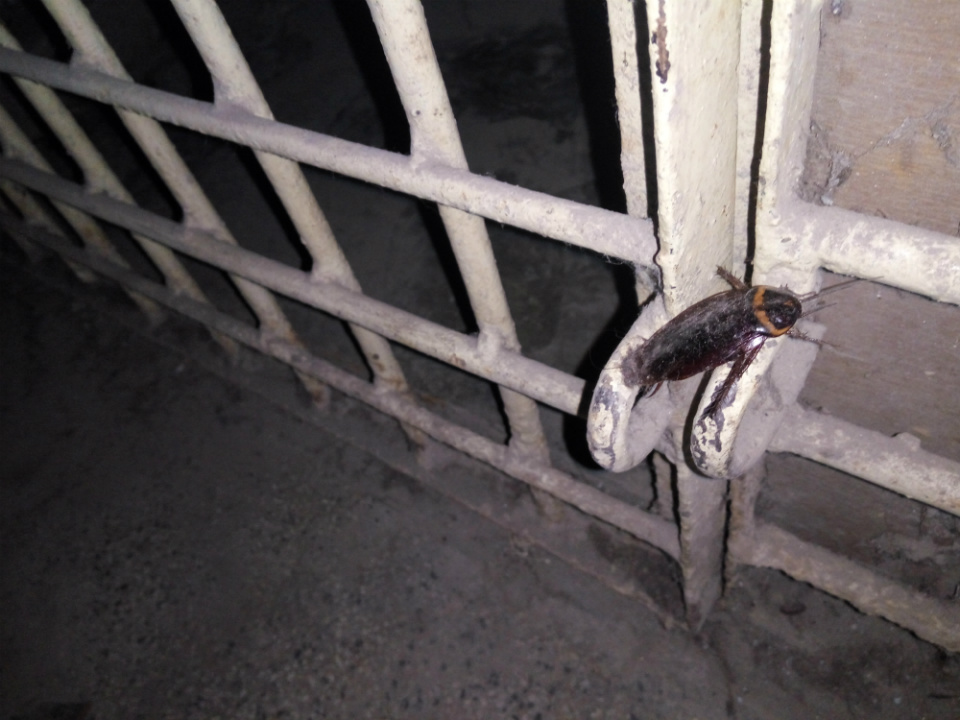cockroach: (515, 261, 877, 429)
